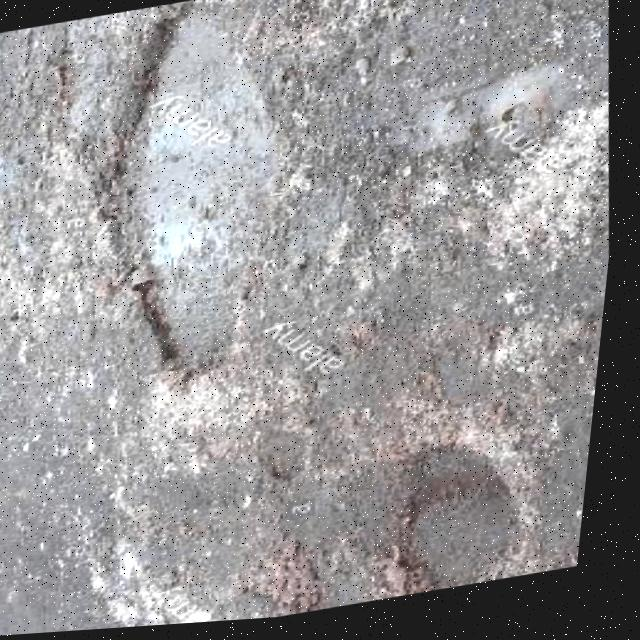Pothole: (55, 0, 327, 410), (387, 439, 544, 605), (389, 55, 579, 192)
